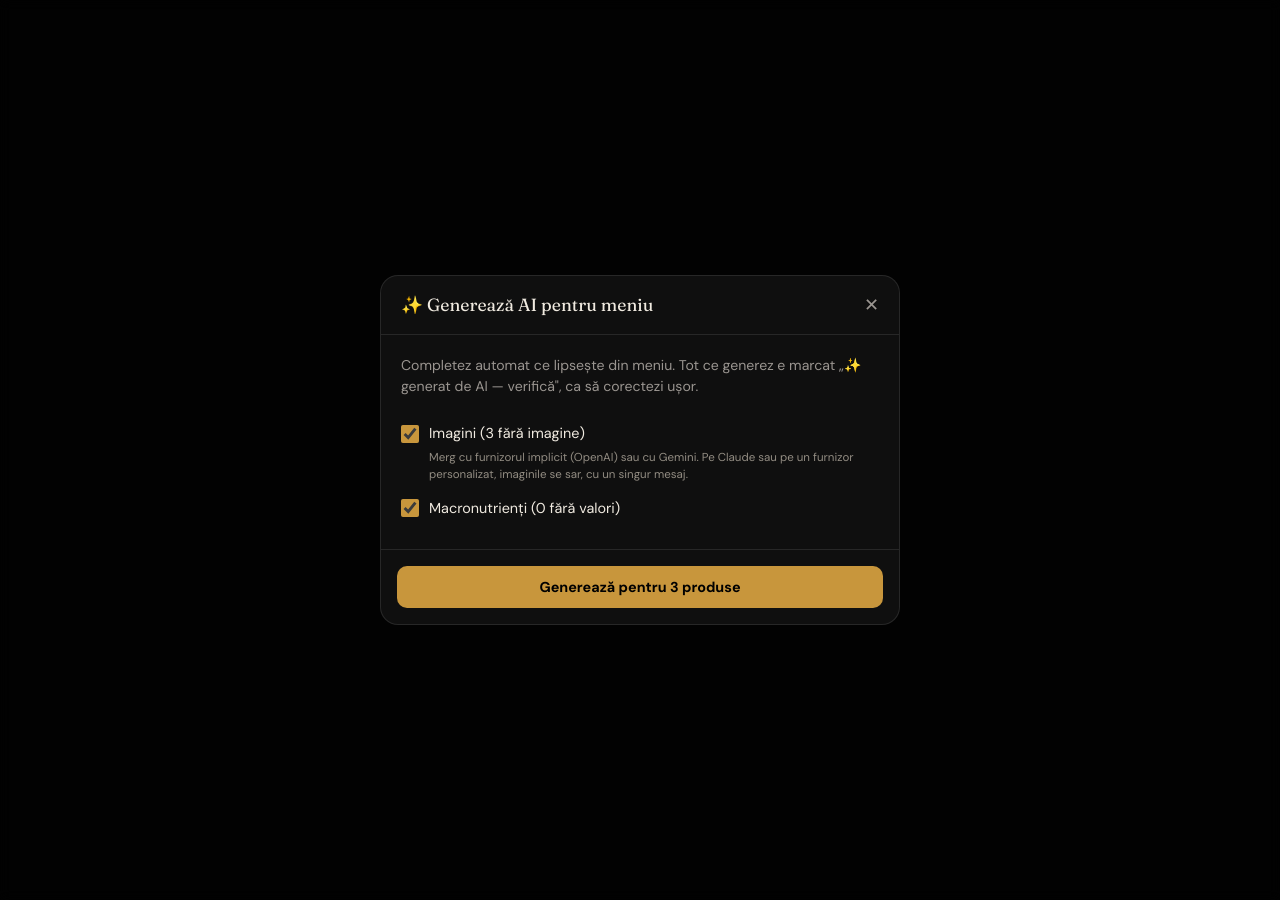
AiBulkGenerate — erori de configurare › ABG1: furnizor fără imagini → un singur apel, un singur mesaj, restul sărite
This screenshot has width=1280, height=900.
What coordinates should you click on to do the following:
click the button "Generează pentru 3 produse"
I would click on:
 (640, 587)
Its box is [397, 566, 883, 608].
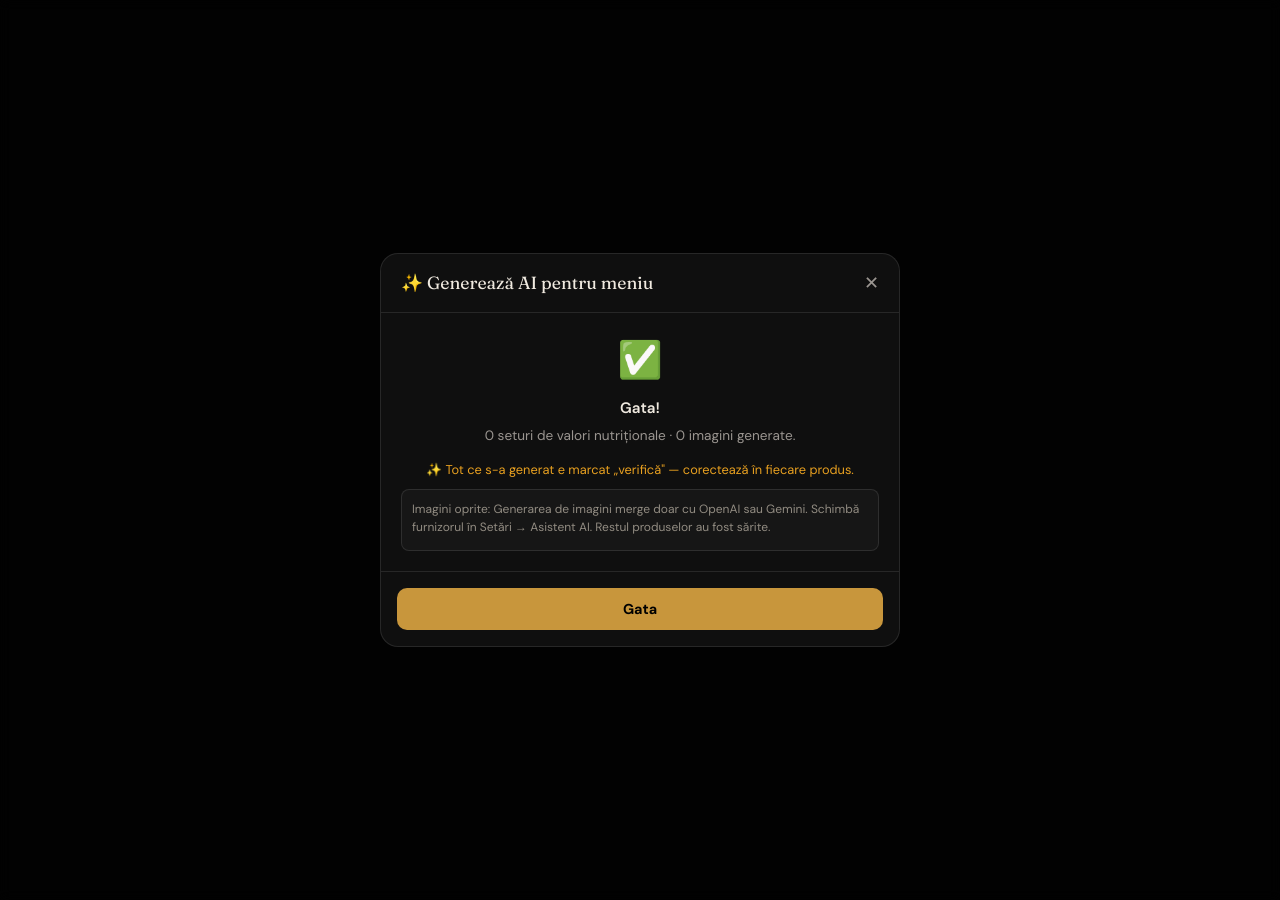
Result: the text "Gata!" is shown at [620, 398, 660, 418]
Result: the text "Imagini oprite:" is shown once at [412, 500, 868, 536]
